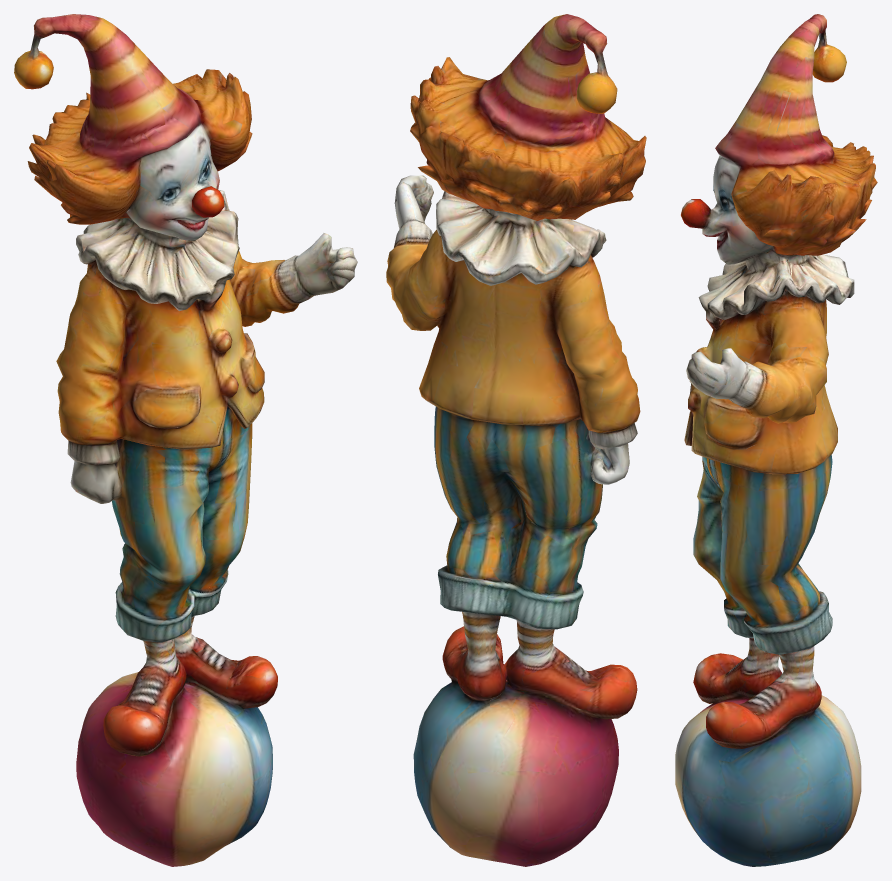
The picture shows the model from 3 angles, left to right: view 1: azimuth 30°, elevation 25°; view 2: azimuth 150°, elevation 25°; view 3: azimuth 270°, elevation 25°; orthographic projection. The views are drawn at different scales.
Size of the model in its own units: 0.6458 by 1.91 by 0.4384.
Materials: 1 (1 with a texture image).
